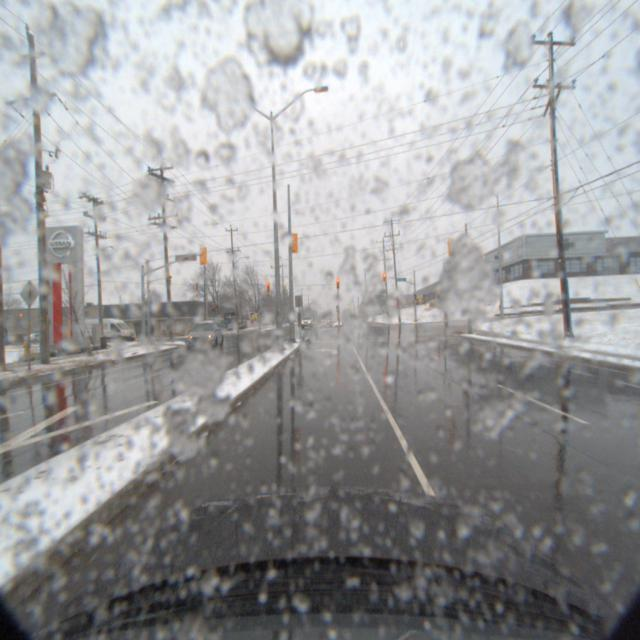Car: (74, 318, 136, 347), (182, 317, 222, 355)
